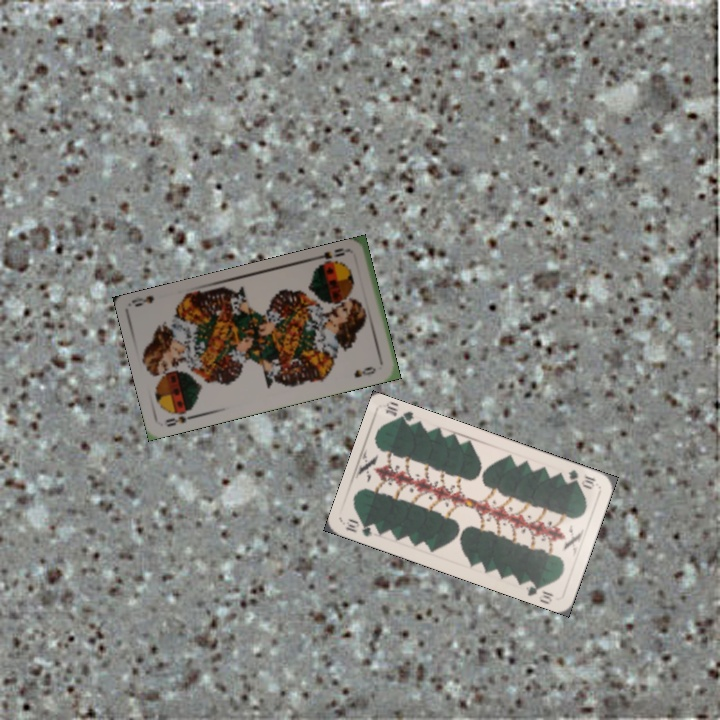G10: (342, 514, 382, 539), (564, 465, 598, 492)
SO: (312, 244, 353, 269), (161, 410, 199, 430)
